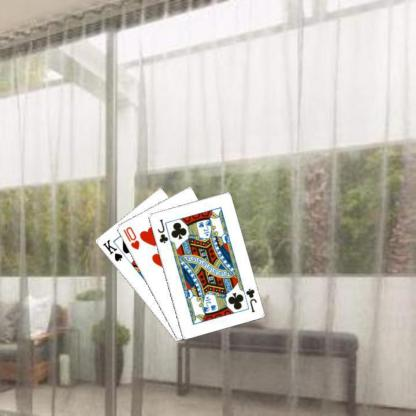10H: (120, 224, 140, 251)
JC: (154, 217, 170, 244), (242, 286, 258, 313)
KS: (100, 237, 124, 263)
